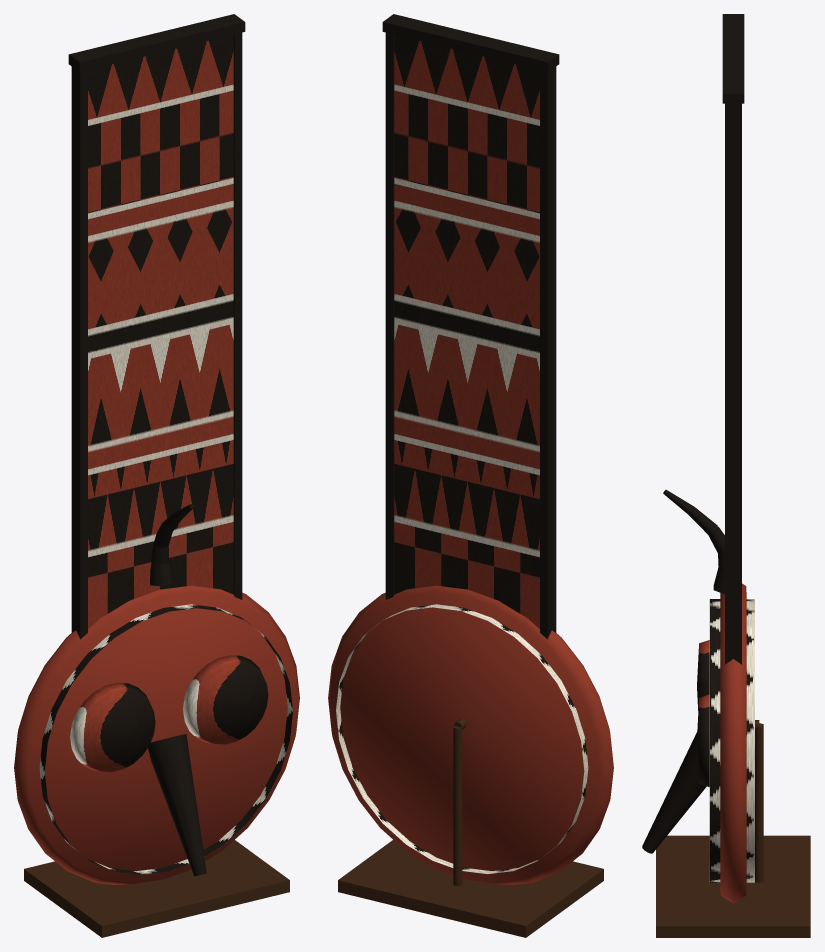
Rendered from masque-bwa.glb.
The picture shows the model from 3 angles, left to right: view 1: azimuth 30°, elevation 25°; view 2: azimuth 150°, elevation 25°; view 3: azimuth 270°, elevation 25°; orthographic projection.
Visible parts, largest first — view 1: masque-bwa; view 2: masque-bwa; view 3: masque-bwa.
Part boxes in pixels (box(x1,y1,x2,y2)): masque-bwa: box(14, 14, 299, 937); masque-bwa: box(328, 14, 613, 937); masque-bwa: box(642, 14, 810, 937).
Size of the model in its own units: 0.76 by 2.15 by 0.3924.
7 materials, 3 textured.
